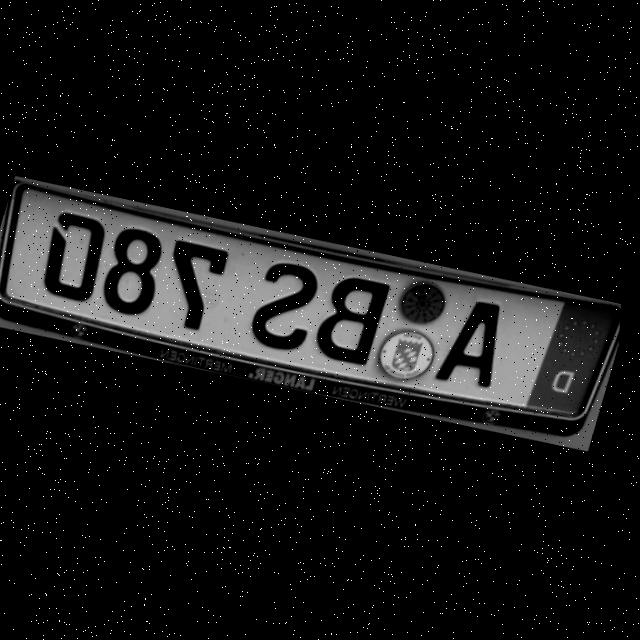license-plates: (4, 188, 618, 417)
